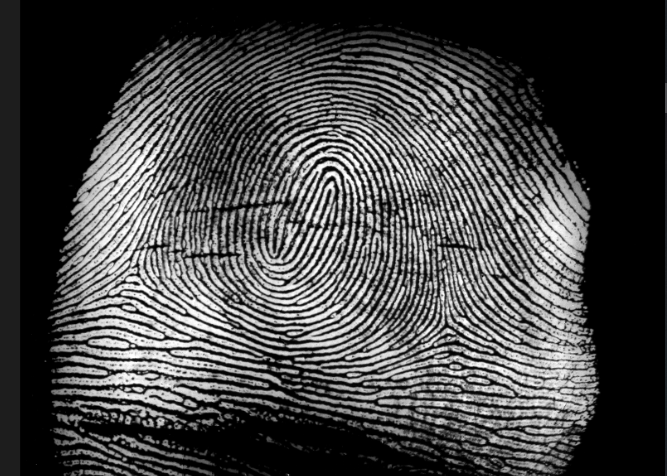deltas: (107, 233, 164, 306), (421, 292, 475, 351)
nucleo: (266, 163, 353, 252)
